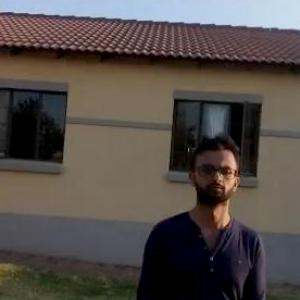follow: (127, 122, 272, 299)
